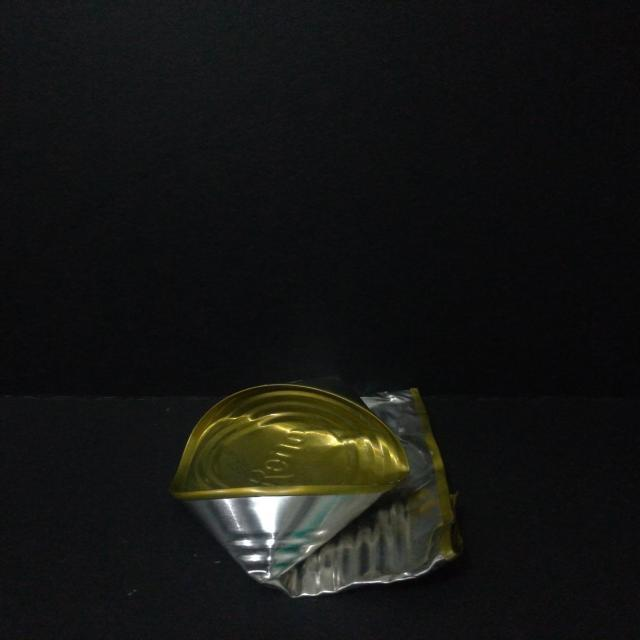metal-can: (163, 372, 470, 605)
